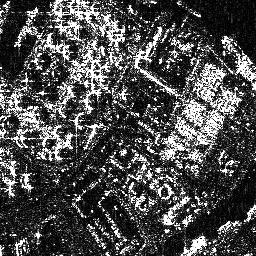ship: (220, 35, 256, 85)
